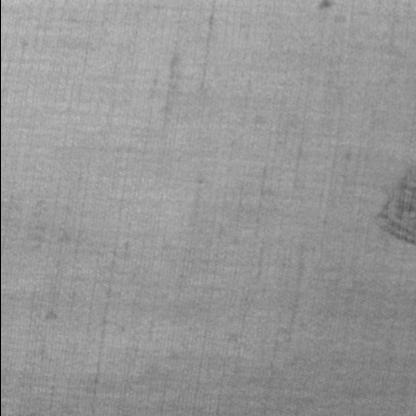oil spot: (368, 164, 415, 248)
